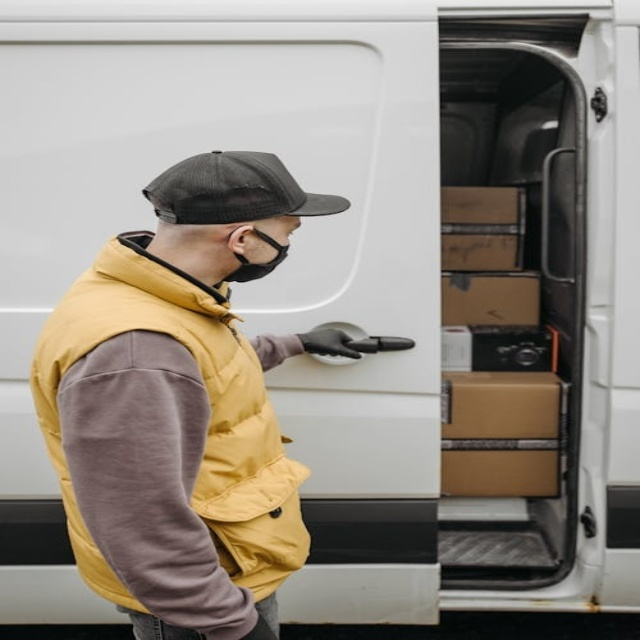Guantes: (296, 326, 366, 360)
Mascara: (222, 226, 292, 283)
Sin_gafas: (273, 220, 302, 243)
